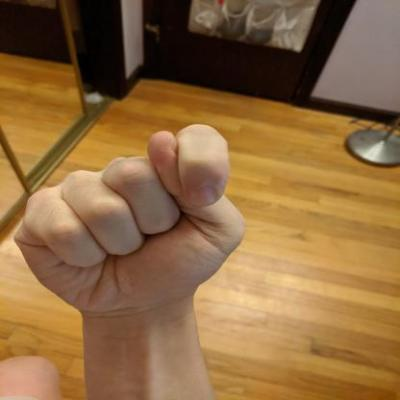hand: (8, 119, 253, 319)
